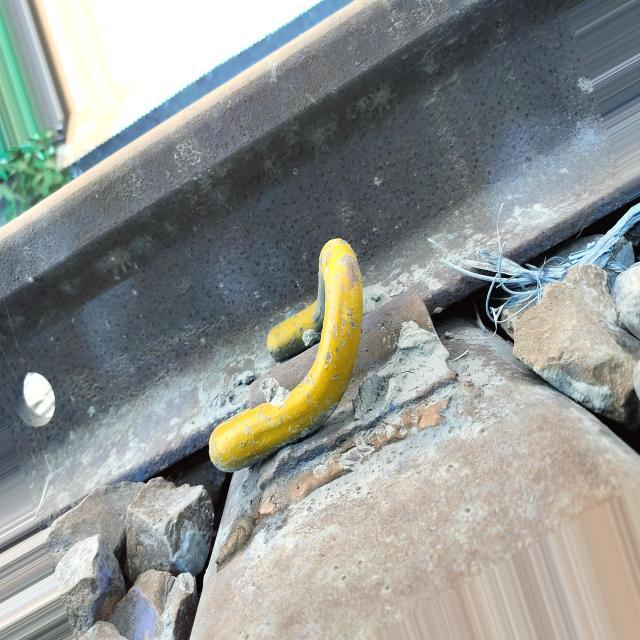Good Fasteners: (208, 238, 459, 575)
